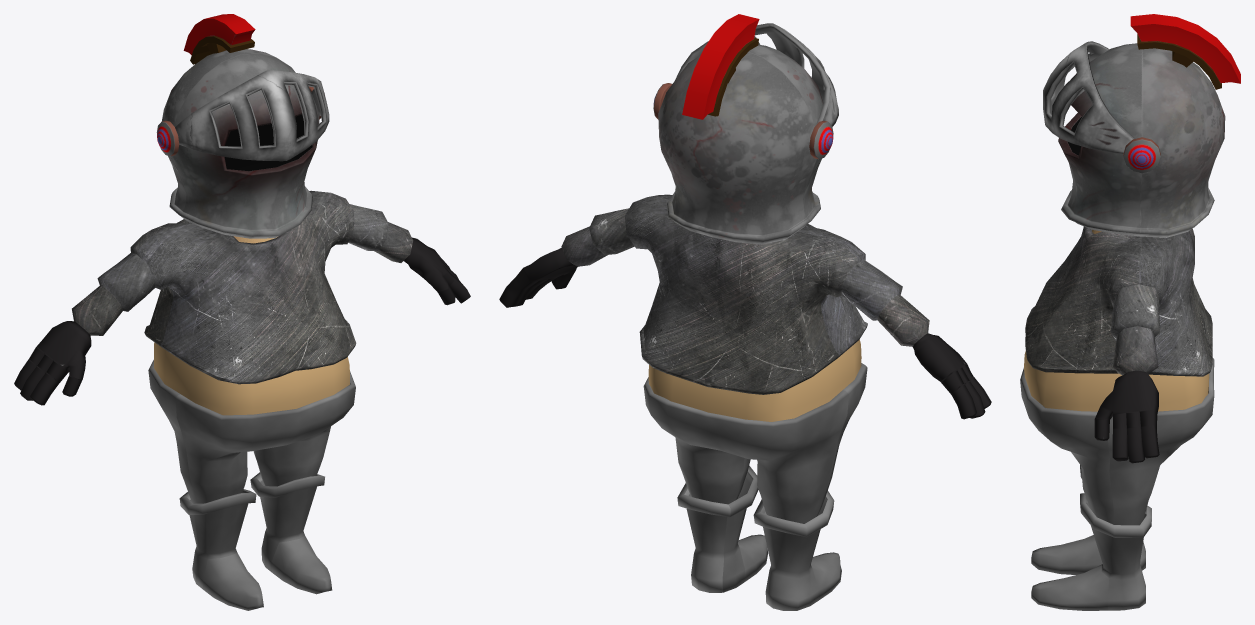
Rendered from clumsy_knight_fbx.fbx.
The picture shows the model from 3 angles, left to right: view 1: azimuth 30°, elevation 25°; view 2: azimuth 150°, elevation 25°; view 3: azimuth 270°, elevation 25°; orthographic projection. The views are drawn at different scales.
Parts seen in each view (by area): view 1: polySurface87, polySurface79, polySurface81, polySurface84, polySurface80, polySurface89, polySurface82, polySurface86, polySurface88; view 2: polySurface87, polySurface79, polySurface81, polySurface82, polySurface80, polySurface89, polySurface86, polySurface84, polySurface88; view 3: polySurface87, polySurface79, polySurface81, polySurface82, polySurface84, polySurface80, polySurface86, polySurface89, polySurface85.
Boxes of the visible parts, x1,y1,x2,y2 form: polySurface87: (14,190,470,405); polySurface79: (161,49,319,238); polySurface81: (148,360,355,503); polySurface84: (175,70,329,161); polySurface80: (154,342,349,415); polySurface89: (179,489,263,610); polySurface82: (250,472,332,594); polySurface86: (183,14,255,64); polySurface88: (156,120,179,156); polySurface87: (499,194,991,419); polySurface79: (658,44,823,244); polySurface81: (643,363,867,523); polySurface82: (677,465,768,592); polySurface80: (648,339,861,421); polySurface89: (753,490,841,610); polySurface86: (682,14,759,119); polySurface84: (675,23,838,126); polySurface88: (809,121,833,159); polySurface87: (1025,226,1212,463); polySurface79: (1058,43,1225,237); polySurface81: (1020,358,1214,525); polySurface82: (1031,493,1151,610); polySurface84: (1043,41,1135,154); polySurface80: (1024,350,1209,411); polySurface86: (1130,14,1240,89); polySurface89: (1031,465,1145,574); polySurface85: (1123,137,1160,173).
Bounding box in the file's own units: 6.1 × 7.12 × 2.53.
